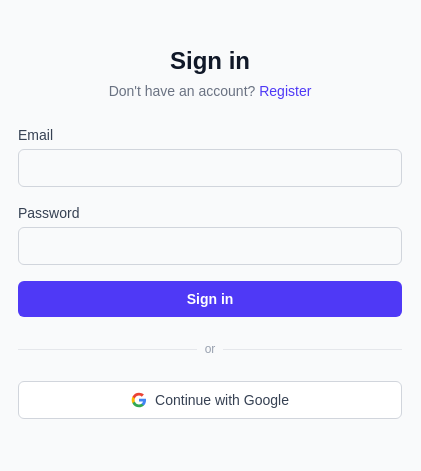
Scenario: LoginPage › shows generic error for non-ApiError exceptions
The image size is (421, 471).
Step 1. Type "test@example.com" into the field labelled "Email" → (210, 168), box [18,149,402,187]
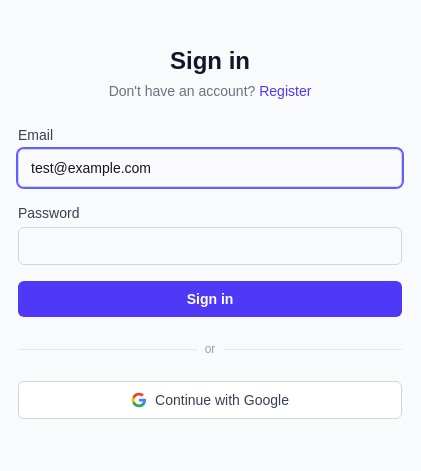
Step 2. Type "password123" into the password field labelled "Password" → (210, 246), box [18,227,402,265]
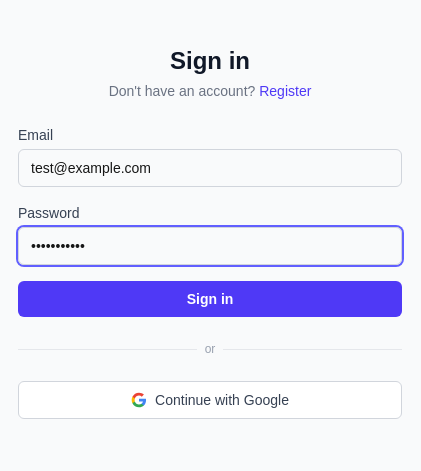
Step 3. Click the button "Sign in" → click(210, 299), box [18,281,402,317]
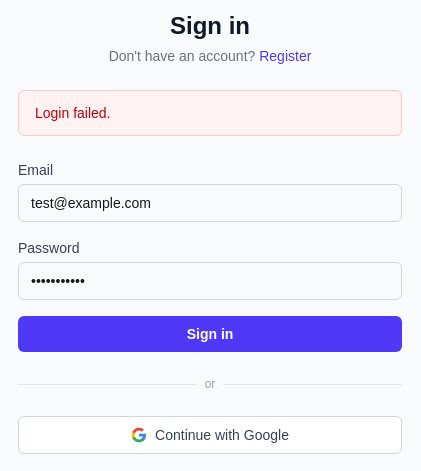
Check: the text "Login failed." is shown, box [18,90,402,136]
